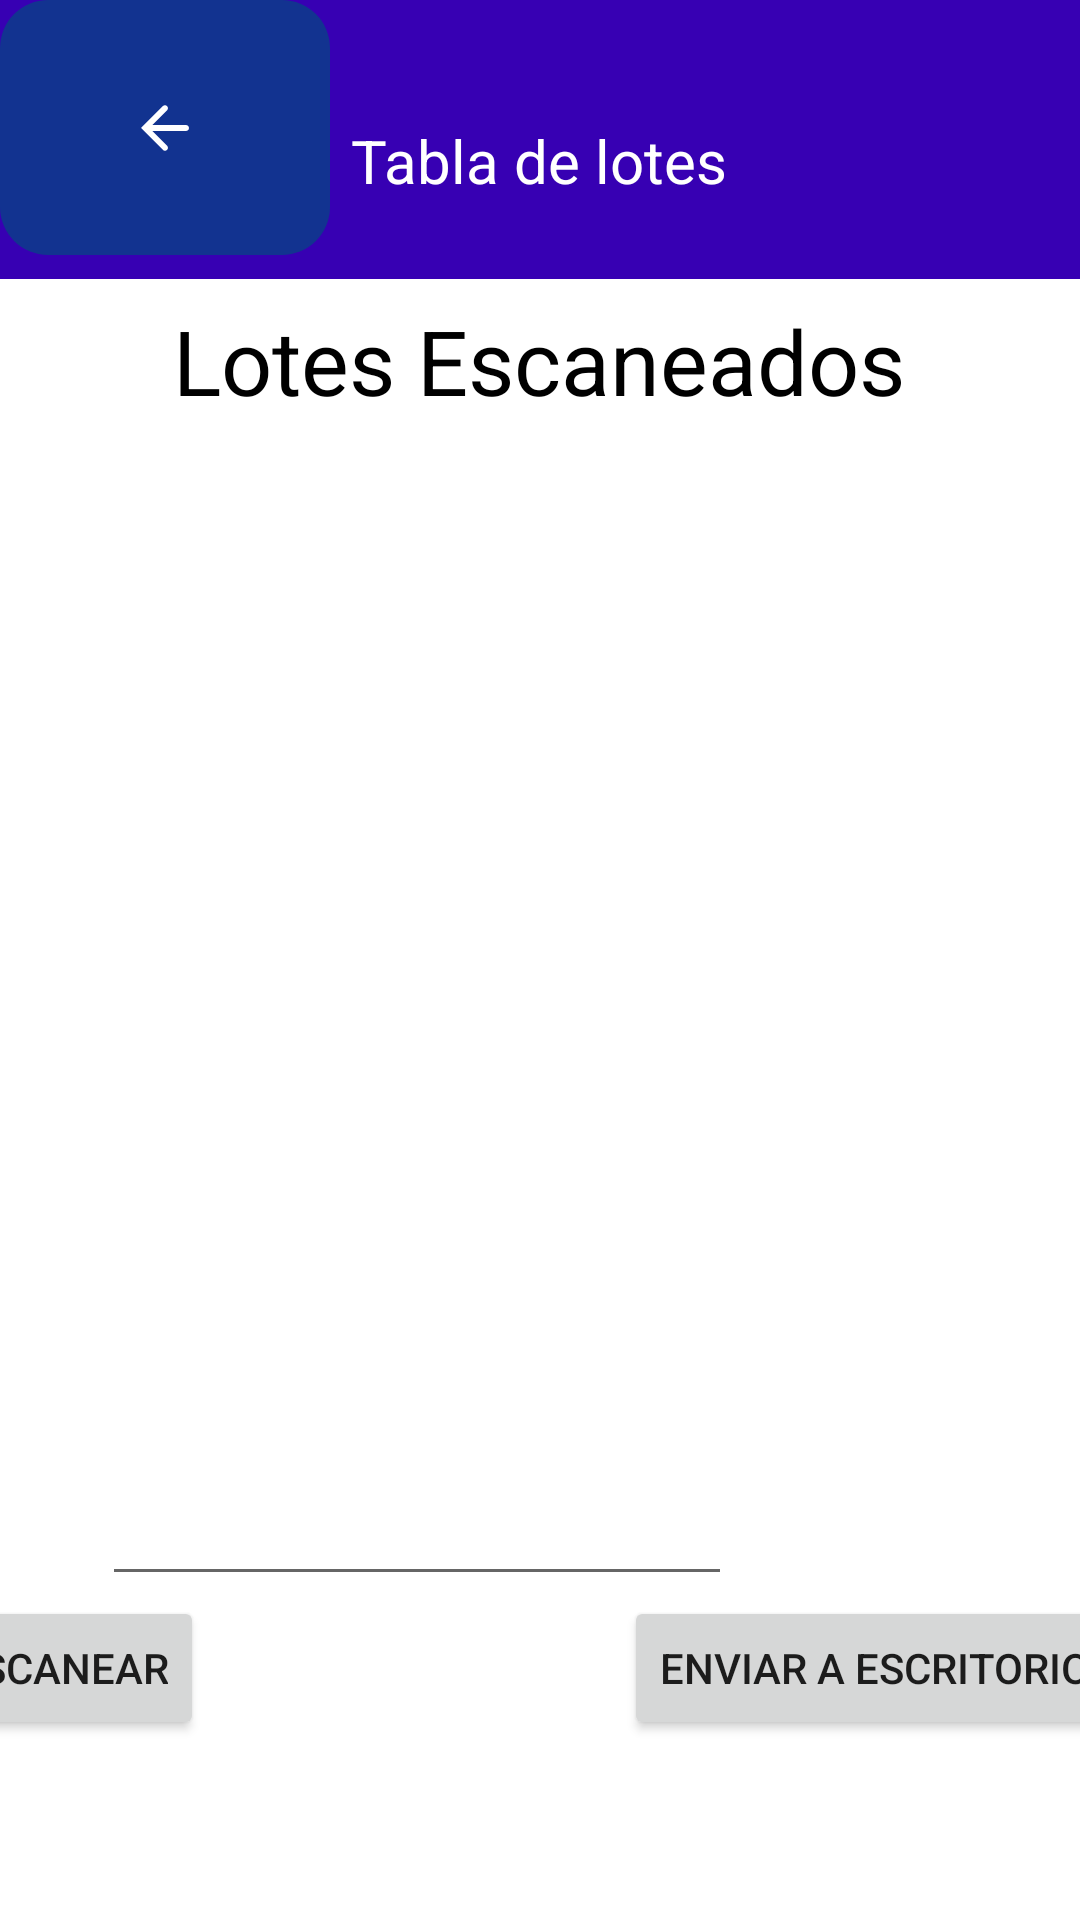

Point at icon controls on the screen. Image size 1080 x 1920, points as (x,y).
arrow left: (165,127)
